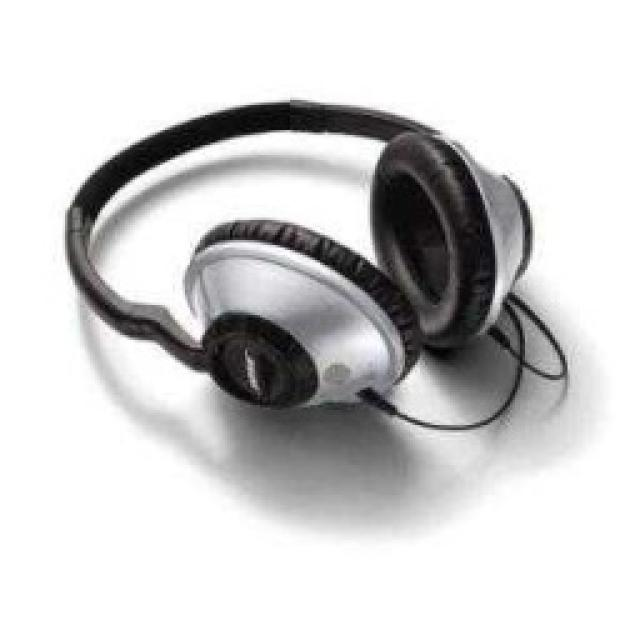headphones: (62, 95, 532, 413)
